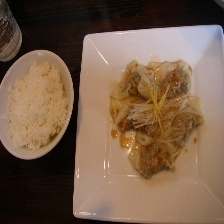rice: (0, 57, 73, 155)
